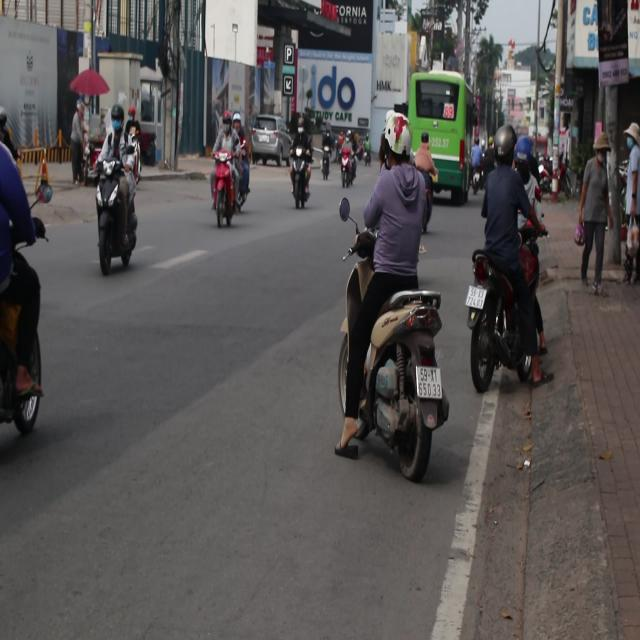bus: (406, 70, 478, 205)
car: (251, 114, 294, 168)
motorbike: (355, 284, 449, 481), (468, 245, 548, 410), (0, 248, 65, 427), (93, 106, 142, 271), (285, 138, 317, 220), (204, 154, 235, 238), (228, 152, 256, 234), (334, 152, 358, 186)
